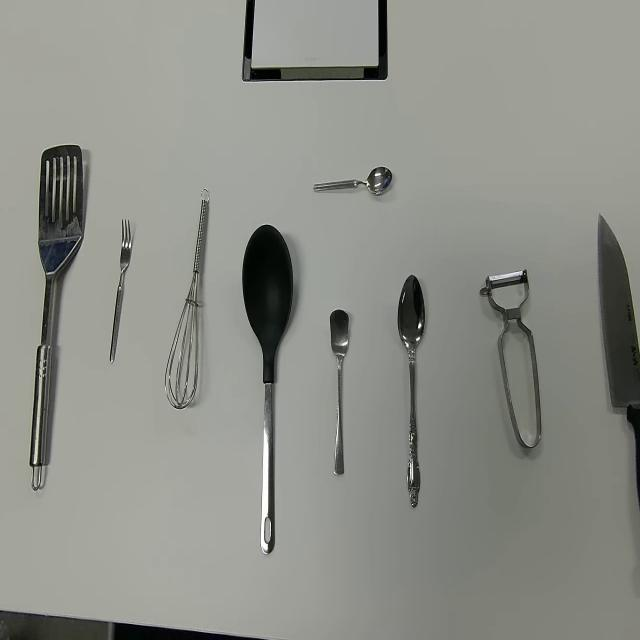Desert-Spoon: (396, 274, 426, 510)
Dinner-Fork: (108, 216, 132, 364)
Kitchen-Knife: (594, 210, 640, 528)
Peeler: (479, 268, 543, 451)
Serving-Spoon: (29, 143, 84, 492), (241, 222, 294, 556)
Tea-Spoon: (329, 308, 349, 476), (312, 165, 392, 198)
Whisk: (164, 187, 210, 410)
